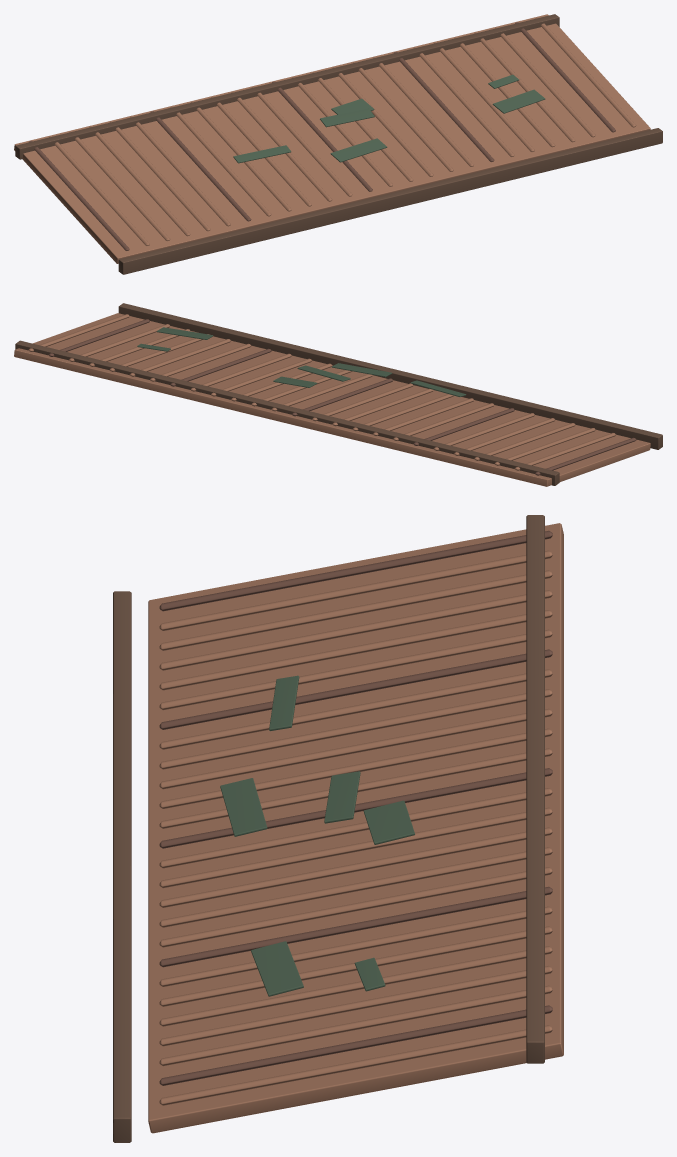
File: roof_front_porch_colonial_01.glb
3 views of the same model, one above another, from view 1: azimuth 30°, elevation 25°; view 2: azimuth 150°, elevation 25°; view 3: azimuth 270°, elevation 25° (orthographic). The views are drawn at different scales.
Parts seen in each view (by area): view 1: roof_front_porch_colonial_01_roof_plane.001, roof_front_porch_colonial_01_front_eave_beam.001, roof_front_porch_colonial_01_upper_wall_beam.001, roof_front_porch_colonial_01_tile_channel_07.001, roof_front_porch_colonial_01_tile_channel_19.001, roof_front_porch_colonial_01_tile_channel_05.001, roof_front_porch_colonial_01_tile_channel_06.001, roof_front_porch_colonial_01_tile_channel_12.001, roof_front_porch_colonial_01_tile_channel_24.001, roof_front_porch_colonial_01_tile_channel_26.001, roof_front_porch_colonial_01_tile_channel_02.001, roof_front_porch_colonial_01_tile_channel_04.001 (+21 smaller); view 2: roof_front_porch_colonial_01_roof_plane.001, roof_front_porch_colonial_01_front_eave_beam.001, roof_front_porch_colonial_01_upper_wall_beam.001, roof_front_porch_colonial_01_tile_channel_01.001, roof_front_porch_colonial_01_tile_channel_13.001, roof_front_porch_colonial_01_tile_channel_17.001, roof_front_porch_colonial_01_tile_channel_05.001, roof_front_porch_colonial_01_tile_channel_07.001, roof_front_porch_colonial_01_tile_channel_12.001, roof_front_porch_colonial_01_tile_channel_26.001, roof_front_porch_colonial_01_tile_channel_03.001, roof_front_porch_colonial_01_tile_channel_04.001 (+20 smaller); view 3: roof_front_porch_colonial_01_roof_plane.001, roof_front_porch_colonial_01_front_eave_beam.001, roof_front_porch_colonial_01_upper_wall_beam.001, roof_front_porch_colonial_01_tile_channel_26.001, roof_front_porch_colonial_01_tile_channel_05.001, roof_front_porch_colonial_01_tile_channel_10.001, roof_front_porch_colonial_01_tile_channel_02.001, roof_front_porch_colonial_01_tile_channel_03.001, roof_front_porch_colonial_01_tile_channel_16.001, roof_front_porch_colonial_01_tile_channel_17.001, roof_front_porch_colonial_01_tile_channel_23.001, roof_front_porch_colonial_01_tile_channel_24.001 (+22 smaller).
Boxes of the visible parts, box(x1,y1,x2,y2) form: roof_front_porch_colonial_01_roof_plane.001: box(14, 14, 650, 263); roof_front_porch_colonial_01_front_eave_beam.001: box(118, 128, 662, 274); roof_front_porch_colonial_01_upper_wall_beam.001: box(15, 14, 559, 159); roof_front_porch_colonial_01_tile_channel_07.001: box(150, 111, 251, 221); roof_front_porch_colonial_01_tile_channel_19.001: box(394, 51, 494, 162); roof_front_porch_colonial_01_tile_channel_05.001: box(110, 121, 210, 231); roof_front_porch_colonial_01_tile_channel_06.001: box(130, 116, 230, 226); roof_front_porch_colonial_01_tile_channel_12.001: box(251, 86, 352, 196); roof_front_porch_colonial_01_tile_channel_24.001: box(495, 27, 595, 137); roof_front_porch_colonial_01_tile_channel_26.001: box(535, 17, 636, 127); roof_front_porch_colonial_01_tile_channel_02.001: box(49, 136, 149, 246); roof_front_porch_colonial_01_tile_channel_04.001: box(89, 126, 190, 236); roof_front_porch_colonial_01_roof_plane.001: box(14, 313, 650, 486); roof_front_porch_colonial_01_front_eave_beam.001: box(118, 303, 662, 449); roof_front_porch_colonial_01_upper_wall_beam.001: box(15, 340, 559, 485); roof_front_porch_colonial_01_tile_channel_01.001: box(535, 437, 636, 475); roof_front_porch_colonial_01_tile_channel_13.001: box(292, 378, 392, 416); roof_front_porch_colonial_01_tile_channel_17.001: box(211, 358, 311, 396); roof_front_porch_colonial_01_tile_channel_05.001: box(454, 418, 555, 455); roof_front_porch_colonial_01_tile_channel_07.001: box(413, 408, 514, 445); roof_front_porch_colonial_01_tile_channel_12.001: box(312, 383, 413, 421); roof_front_porch_colonial_01_tile_channel_26.001: box(28, 314, 129, 351); roof_front_porch_colonial_01_tile_channel_03.001: box(494, 428, 595, 465); roof_front_porch_colonial_01_tile_channel_04.001: box(474, 423, 575, 460); roof_front_porch_colonial_01_roof_plane.001: box(148, 523, 563, 1133); roof_front_porch_colonial_01_front_eave_beam.001: box(113, 591, 131, 1142); roof_front_porch_colonial_01_upper_wall_beam.001: box(526, 515, 544, 1063); roof_front_porch_colonial_01_tile_channel_26.001: box(159, 1025, 552, 1105); roof_front_porch_colonial_01_tile_channel_05.001: box(159, 610, 552, 690); roof_front_porch_colonial_01_tile_channel_10.001: box(159, 708, 552, 789); roof_front_porch_colonial_01_tile_channel_02.001: box(159, 550, 552, 630); roof_front_porch_colonial_01_tile_channel_03.001: box(159, 570, 552, 650); roof_front_porch_colonial_01_tile_channel_16.001: box(159, 827, 552, 907); roof_front_porch_colonial_01_tile_channel_17.001: box(159, 847, 552, 927); roof_front_porch_colonial_01_tile_channel_23.001: box(159, 966, 552, 1046); roof_front_porch_colonial_01_tile_channel_24.001: box(159, 985, 552, 1066).
Bounding box in the file's own units: 8 × 0.72 × 2.89.
